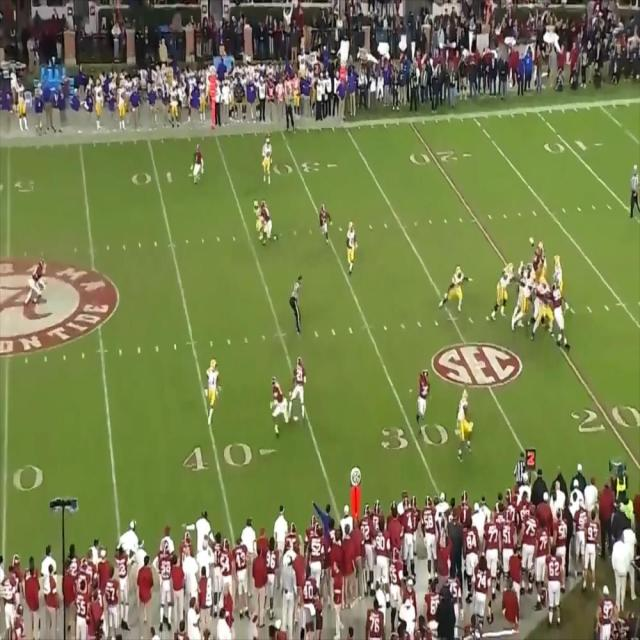db: (269, 377, 287, 438), (294, 355, 308, 417), (29, 262, 45, 310), (318, 205, 329, 245), (193, 144, 203, 180)
lb: (521, 265, 532, 317), (420, 371, 430, 425), (260, 202, 270, 240)
qb: (553, 255, 563, 307)
skill: (456, 391, 471, 456), (205, 358, 219, 420), (253, 198, 267, 242), (346, 222, 356, 274), (261, 135, 271, 183)
